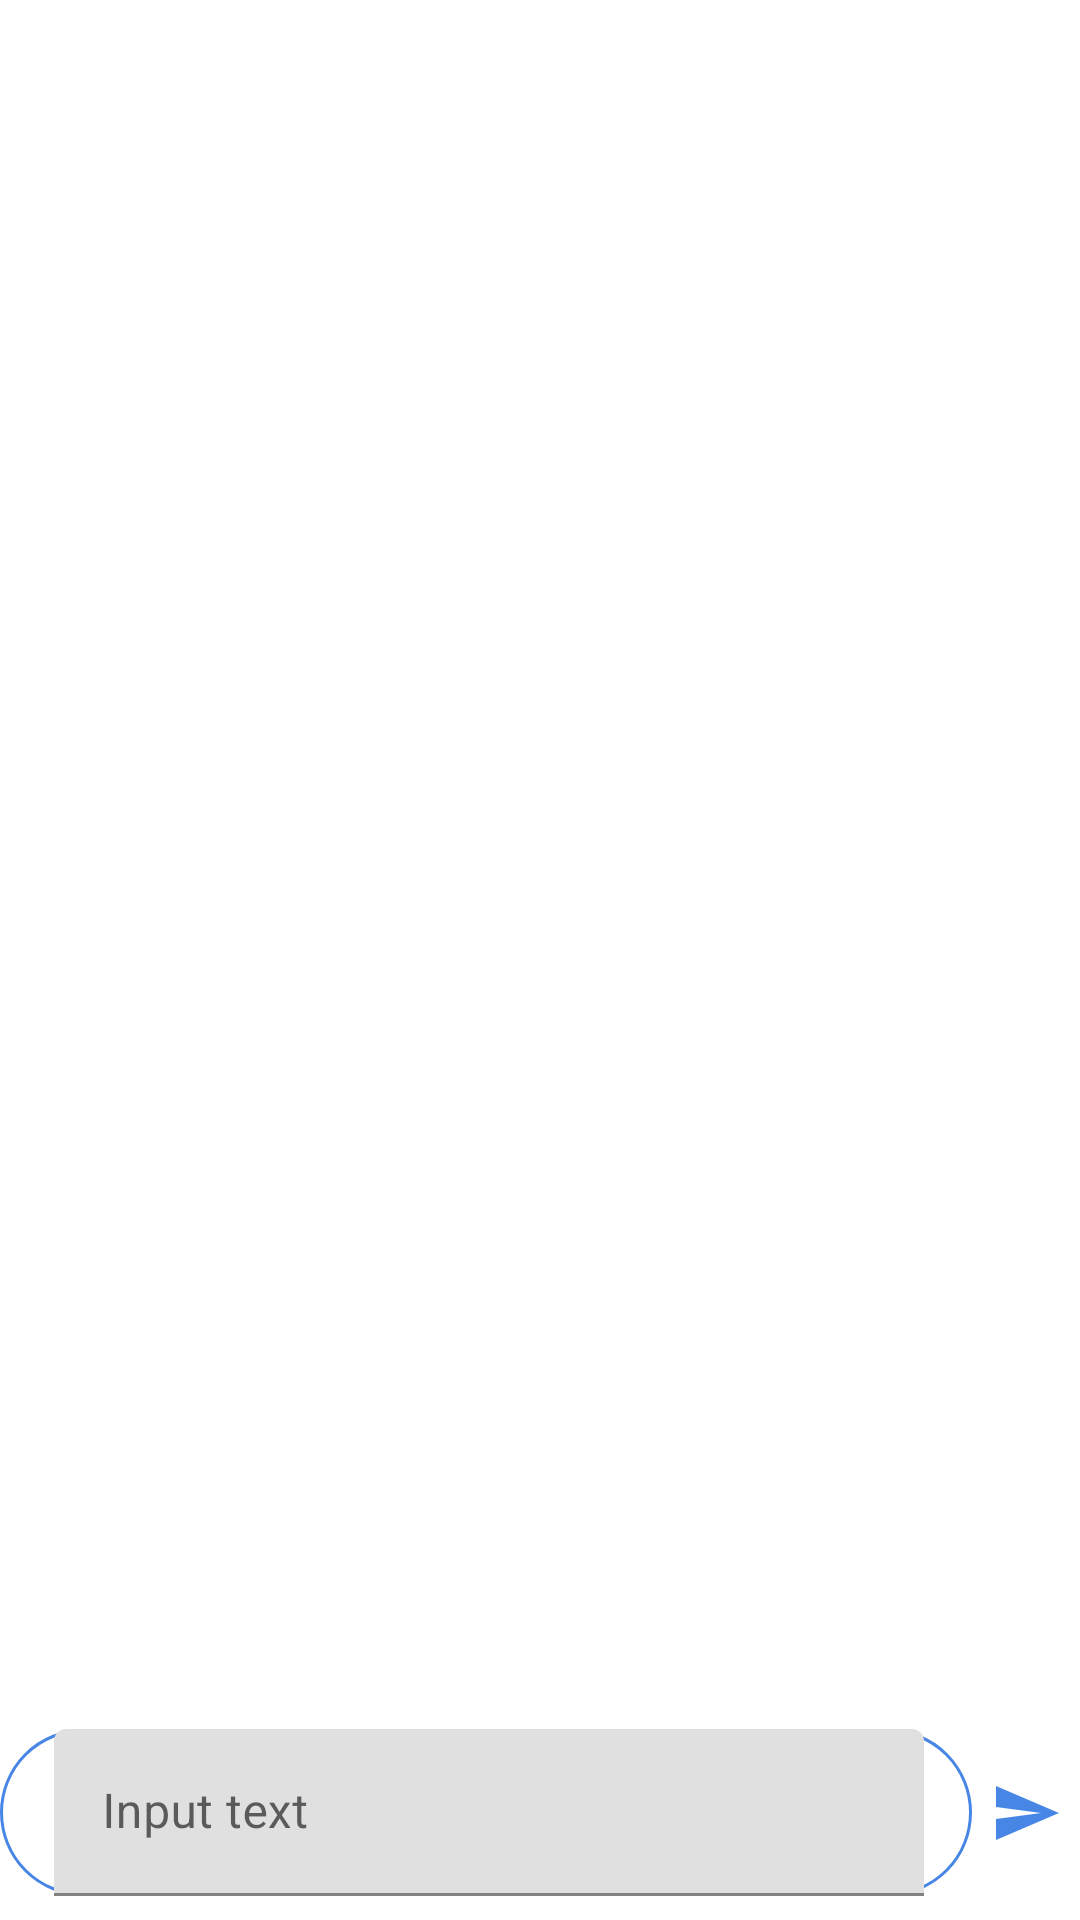

Named icons in this screenshot (1080×1920) and their centers, (x,y):
send: (1027,1813)
